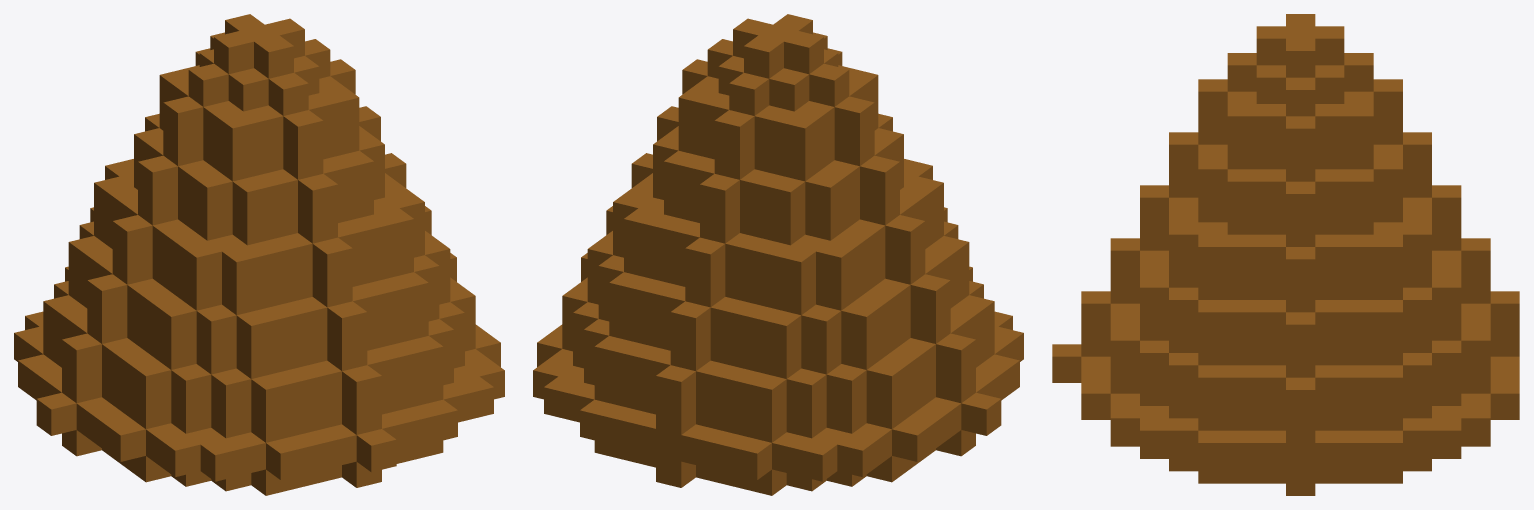
Rendered from tile-530.obj.
3 views of the same model, side by side, from view 1: azimuth 30°, elevation 25°; view 2: azimuth 150°, elevation 25°; view 3: azimuth 270°, elevation 25° (orthographic).
Size of the model in its own units: 16 by 15 by 16.
